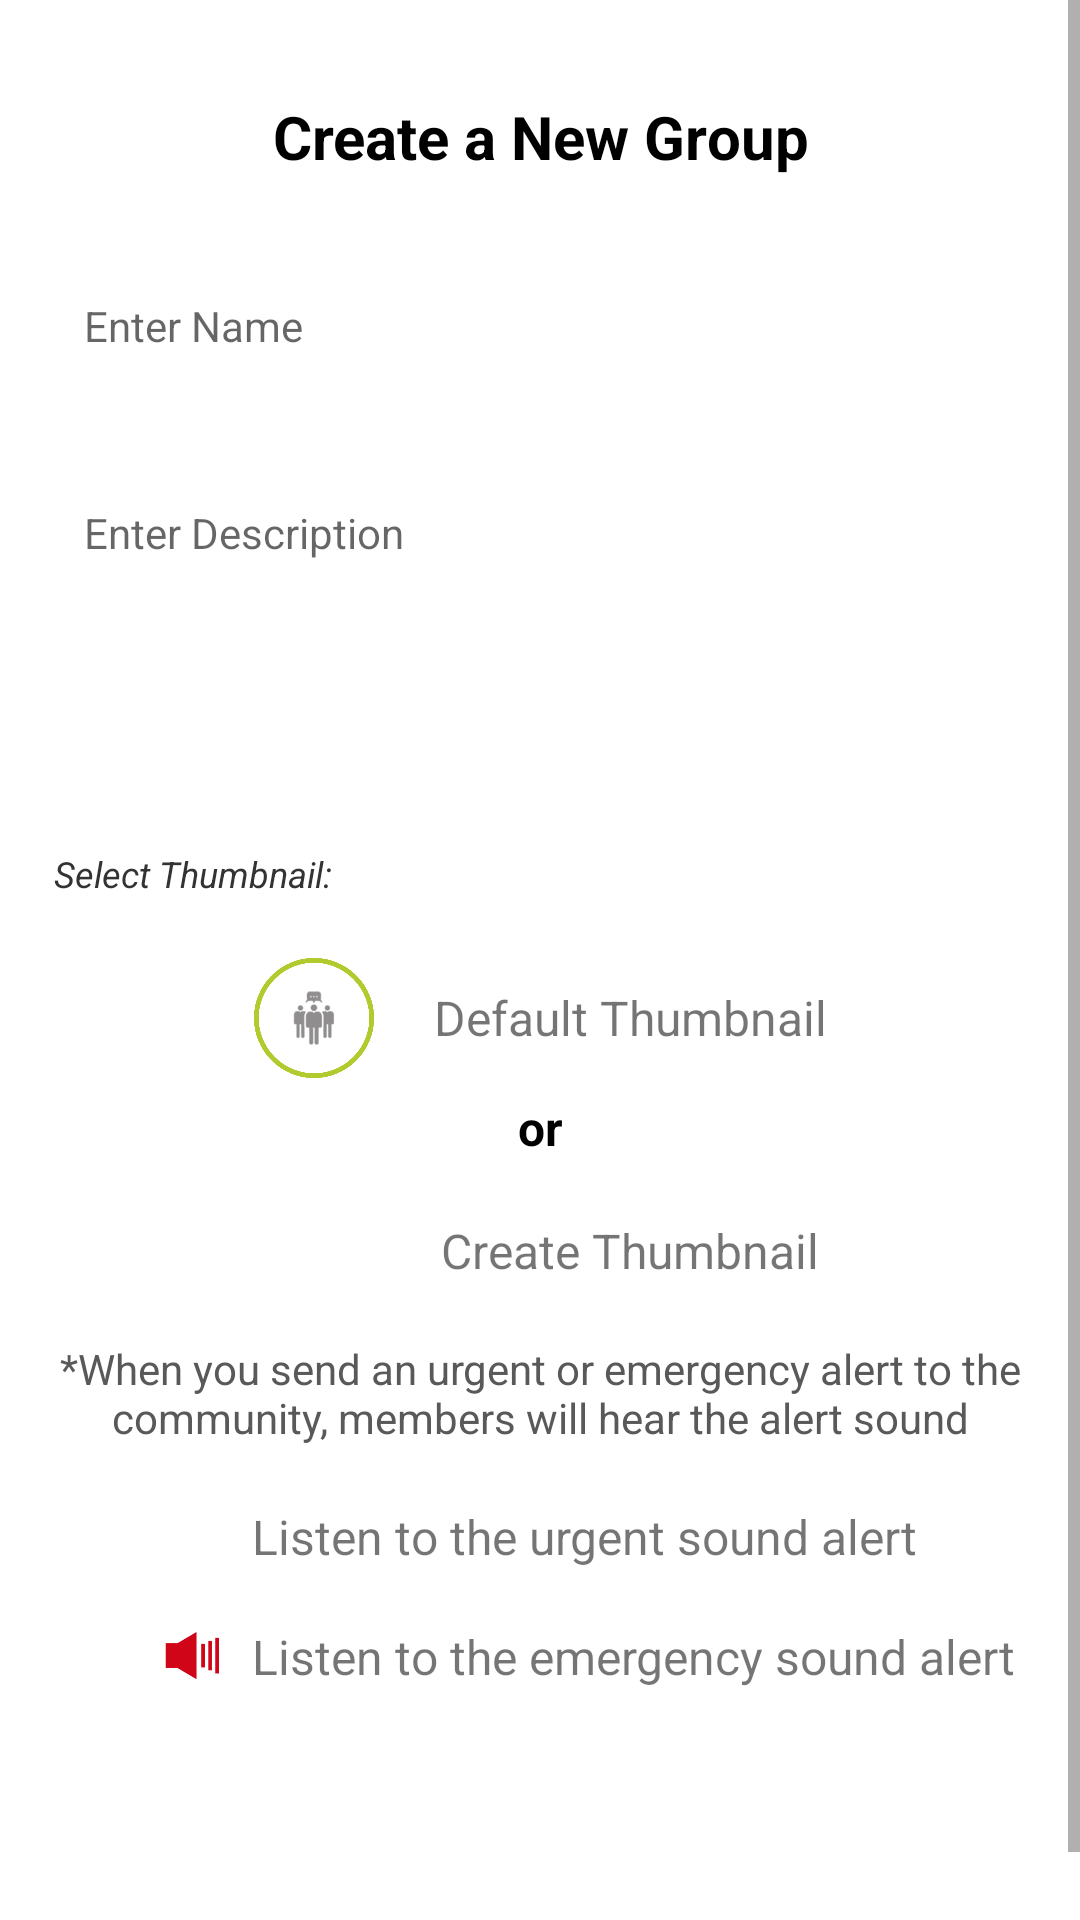

Where to tap for icons on this 1080*1920 app screen, as [x,y]:
audio emergency: [192,1655]
